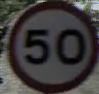Speed limit: (8, 3, 98, 86)
